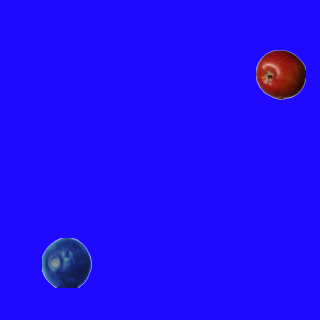Apple Braeburn: (255, 49, 305, 99)
Huckleberry: (41, 237, 91, 287)
